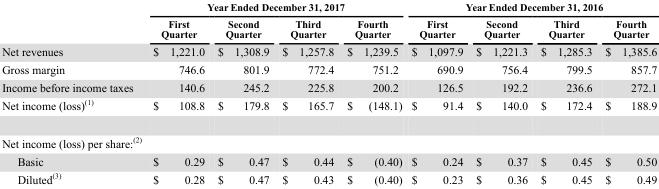table: (1, 0, 656, 185)
table column: (1, 0, 142, 185), (142, 0, 210, 185), (339, 0, 406, 185), (210, 0, 275, 185), (468, 0, 533, 185), (533, 0, 598, 185), (275, 0, 339, 185), (406, 0, 468, 185), (598, 0, 656, 185)
table column header: (1, 0, 656, 42)
table projected row header: (1, 123, 656, 151)
table row: (1, 95, 656, 123), (1, 123, 656, 151), (1, 15, 656, 42), (1, 42, 656, 60), (1, 60, 656, 78), (1, 151, 656, 169), (1, 78, 656, 95), (1, 169, 656, 185), (1, 0, 656, 15)
table spanning cell: (142, 0, 406, 15), (406, 0, 656, 15)
